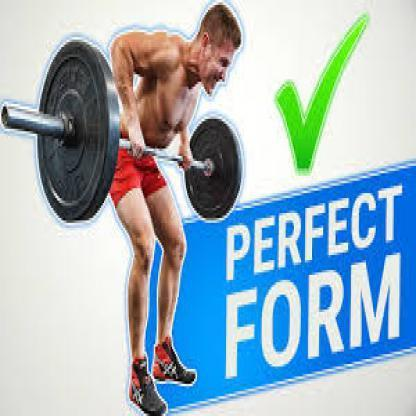barbell: (0, 33, 241, 228)
